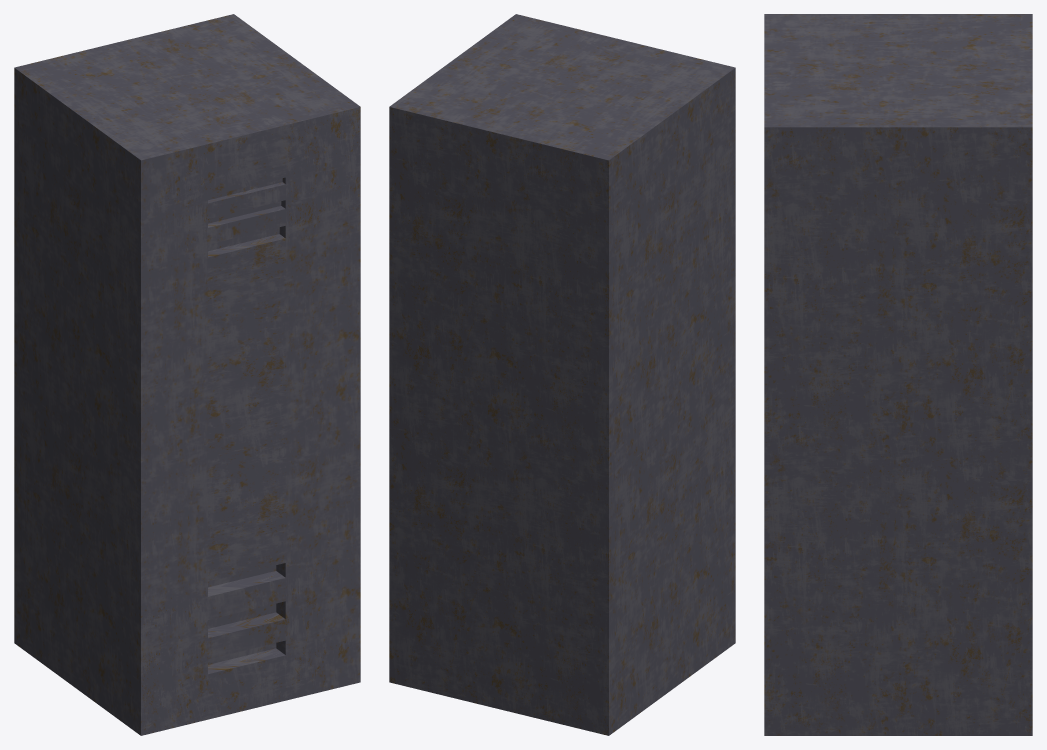
Rendered from Locker.fbx.
3 renders of one model, left to right at view 1: azimuth 30°, elevation 25°; view 2: azimuth 150°, elevation 25°; view 3: azimuth 270°, elevation 25°, orthographic. The views are drawn at different scales.
Parts seen in each view (by area): view 1: Cube; view 2: Cube; view 3: Cube.
Part boxes in pixels (x1=…): Cube: x1=14, y1=14, x2=360, y2=735; Cube: x1=389, y1=14, x2=735, y2=735; Cube: x1=764, y1=14, x2=1032, y2=735.
Bounding box in the file's own units: 45.01 × 113 × 45.01.
